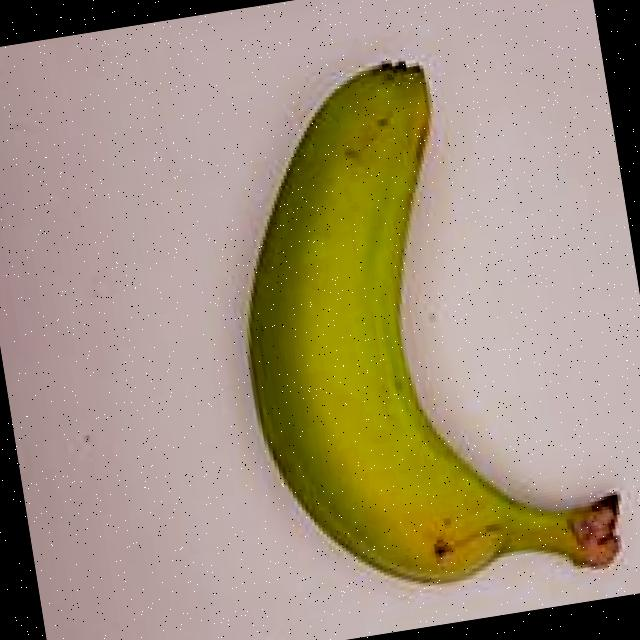Unripe: (182, 7, 640, 640)
